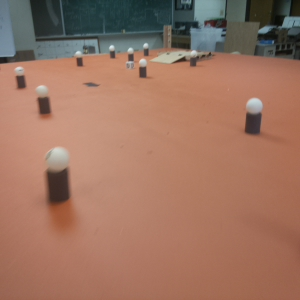corner: (162, 25, 172, 48)
obstacle: (45, 147, 71, 207), (246, 98, 262, 136), (36, 84, 50, 112), (14, 66, 25, 89), (139, 59, 148, 79), (74, 52, 84, 68), (108, 46, 116, 60), (126, 47, 134, 60), (143, 43, 150, 57), (190, 51, 196, 66)
slope: (153, 54, 186, 64)
start: (82, 79, 99, 89)
